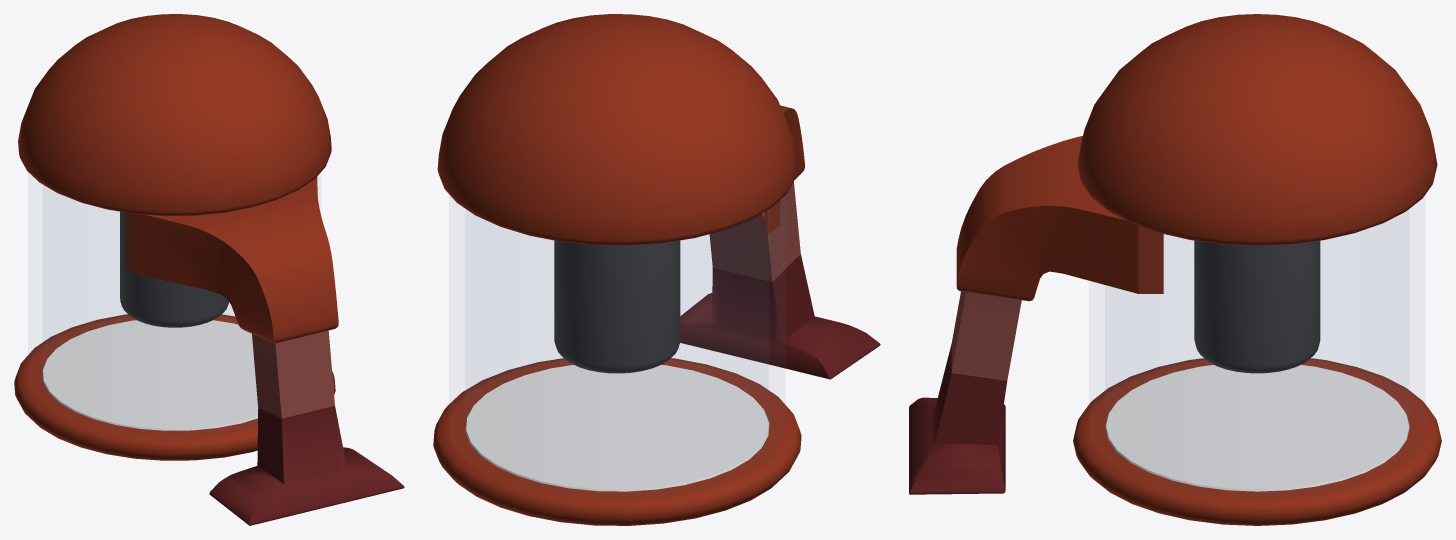
Rendered from Vacuum.fbx.
3 renders of one model, left to right at view 1: azimuth 30°, elevation 25°; view 2: azimuth 150°, elevation 25°; view 3: azimuth 270°, elevation 25°, orthographic. The views are drawn at different scales.
Visible parts, largest first — view 1: Vacuum; view 2: Vacuum; view 3: Vacuum.
Boxes of the visible parts, x1,y1,x2,y2 form: Vacuum: (14,14,404,525); Vacuum: (433,14,880,525); Vacuum: (909,14,1441,525).
Size of the model in its own units: 65.66 by 82.78 by 94.82.
